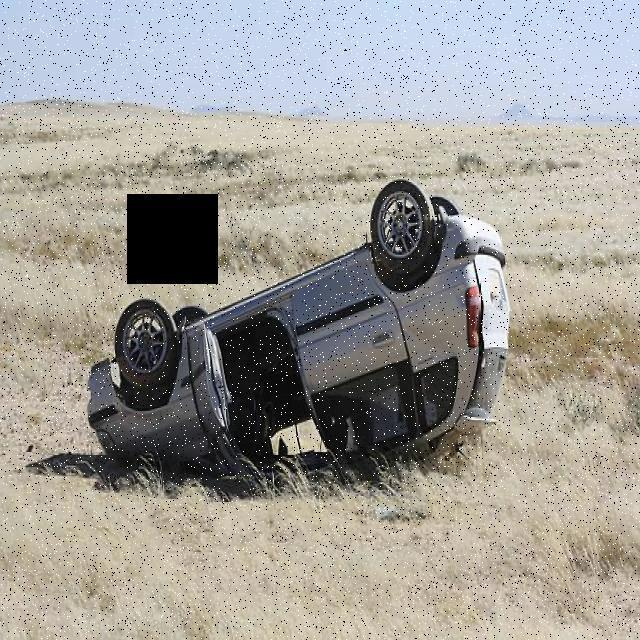single accident: (68, 210, 502, 508)
